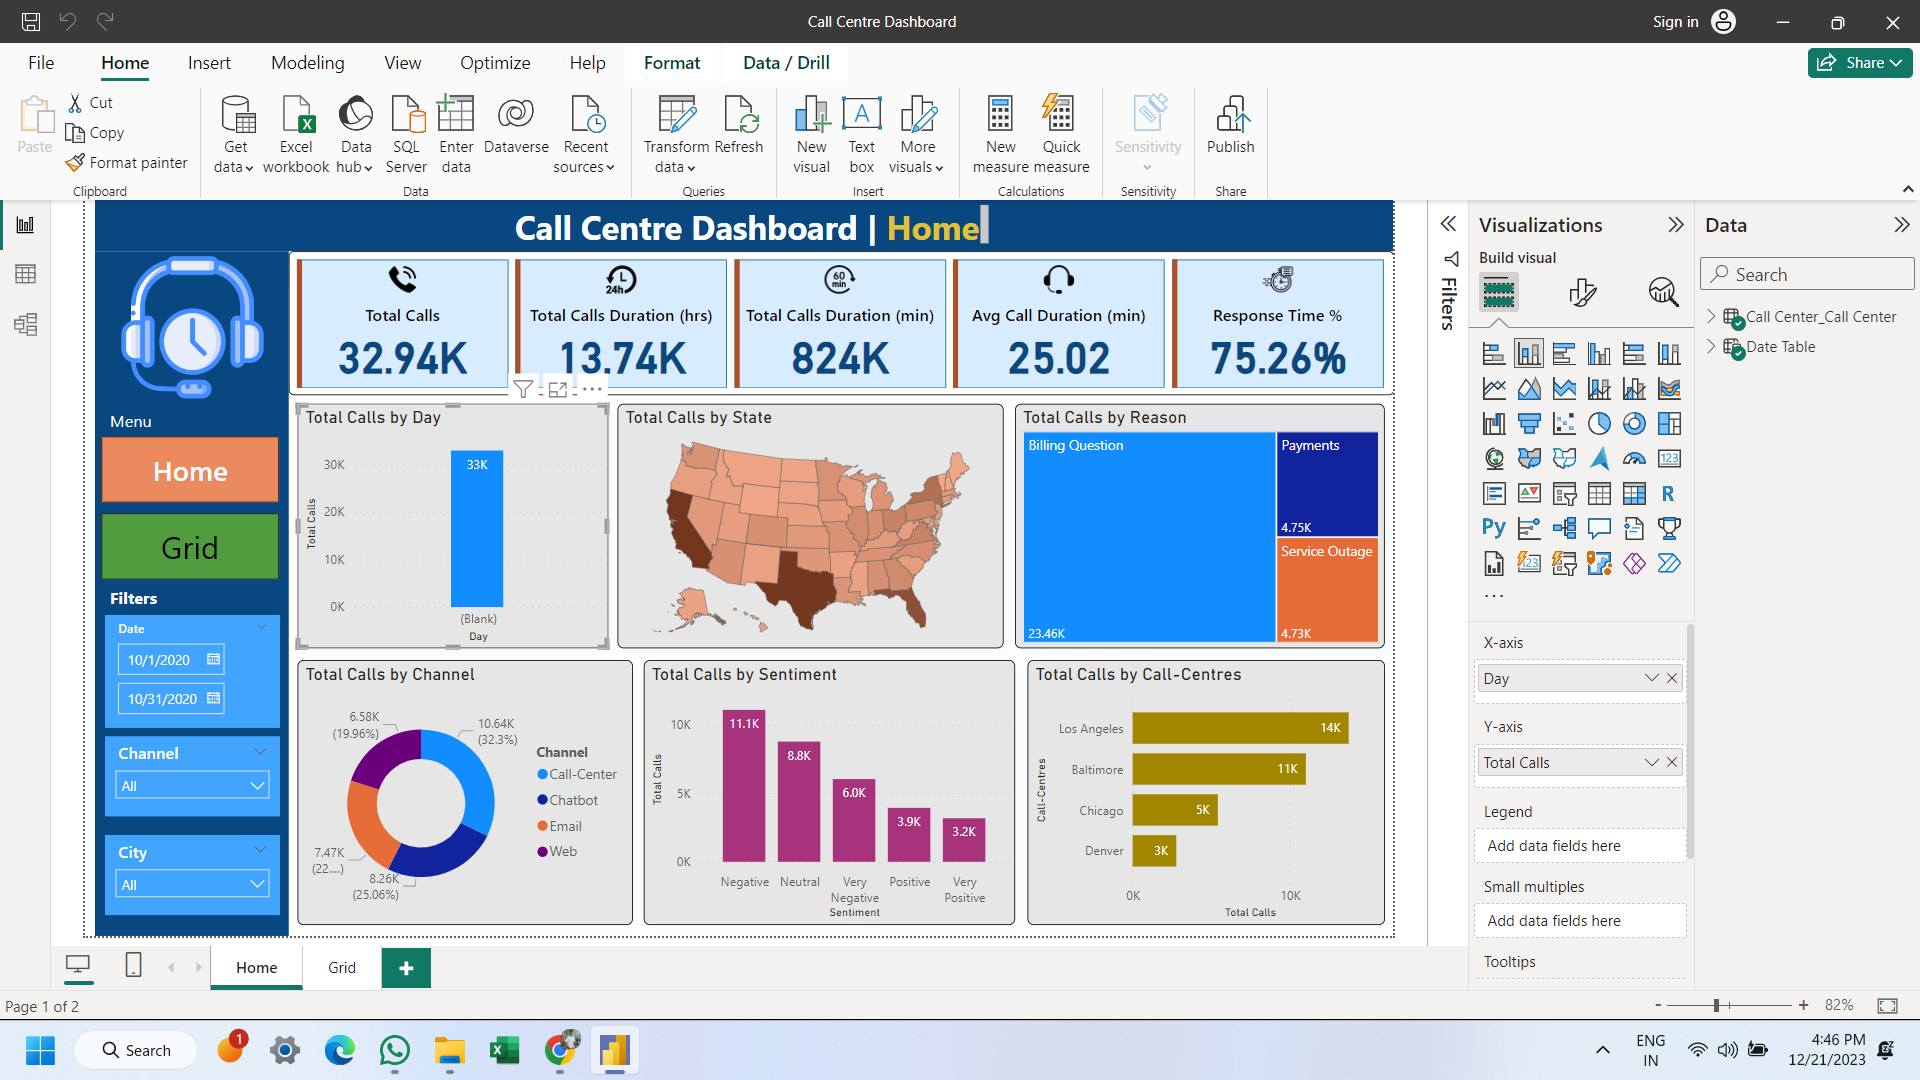

Layout of this report page (visuals, bound fields, positions):
{"tool":"powerbi","page":{"name":"Home","canvas":[1280,720],"ordinal":0},"visuals":[{"type":"shape","box":[9.8,50.1,189.5,669.9],"z":0},{"type":"shape","box":[9.3,0,1270.7,50],"z":1000},{"type":"textbox","box":[19.6,372.8,123.5,33],"z":2000},{"type":"cardVisual","fields":{"Data":["Call Center_Call Center.Total Calls","Call Center_Call Center.Total Calls Duration (hrs)","Call Center_Call Center.Total Calls in Duration (min)","Call Center_Call Center.Avg Calls Duration (min)","Call Center_Call Center.Response Time %"]},"box":[199.3,50.1,1080.6,140.6],"z":3000},{"type":"textbox","box":[415.6,0,473.1,50.1],"z":4000},{"type":"columnChart","fields":{"Y":["Call Center_Call Center.Total Calls"],"Category":["Date Table.Day"]},"box":[207.8,199.3,304.4,239.6],"z":5000},{"type":"shapeMap","fields":{"Category":["Call Center_Call Center.State"],"Value":["Call Center_Call Center.Total Calls"]},"box":[520.7,199.3,377.7,239.6],"z":6000},{"type":"treemap","fields":{"Values":["Call Center_Call Center.Total Calls"],"Group":["Call Center_Call Center.Reason"]},"box":[909.5,199.3,361.8,239.6],"z":7000},{"type":"donutChart","fields":{"Category":["Call Center_Call Center.Channel"],"Y":["Call Center_Call Center.Total Calls"]},"box":[207.8,449.8,327.6,259.2],"z":8000},{"type":"columnChart","fields":{"Category":["Call Center_Call Center.Sentiment"],"Y":["Call Center_Call Center.Total Calls"]},"box":[546.4,449.8,363.1,259.2],"z":9000},{"type":"barChart","fields":{"Category":["Call Center_Call Center.Call-Centres City"],"Y":["Call Center_Call Center.Total Calls"]},"box":[921.7,449.8,349.6,259.2],"z":10000},{"type":"slicer","fields":{"Values":["Date Table.Date"]},"box":[19.6,405.8,171.1,110],"z":11000},{"type":"slicer","fields":{"Values":["Call Center_Call Center.Channel"]},"box":[19.6,524.4,171.1,78.2],"z":12000},{"type":"slicer","fields":{"Values":["Call Center_Call Center.City"]},"box":[19.6,621,171.1,78.2],"z":13000},{"type":"image","box":[19.6,50.1,171.1,149.1],"z":14000},{"type":"pageNavigator","box":[15.9,231,174.8,141.8],"z":15000},{"type":"textbox","box":[19.6,199.3,123.5,111.2],"z":16000}]}

Visuals, with their boxes on the page's 1280x720 design canvas (x1, y1, x2, y2). These are canvas units, not pixel positions in the 1920x1080 screenshot, which may show the page scaled, cropped or inside an application window:
shape: 10, 50, 199, 720
shape: 9, 0, 1280, 50
textbox: 20, 373, 143, 406
cardVisual - Call Center_Call Center.Total Calls x Call Center_Call Center.Total Calls Duration (hrs): 199, 50, 1280, 191
textbox: 416, 0, 889, 50
columnChart - Call Center_Call Center.Total Calls x Date Table.Day: 208, 199, 512, 439
shapeMap - Call Center_Call Center.State x Call Center_Call Center.Total Calls: 521, 199, 898, 439
treemap - Call Center_Call Center.Total Calls x Call Center_Call Center.Reason: 910, 199, 1271, 439
donutChart - Call Center_Call Center.Channel x Call Center_Call Center.Total Calls: 208, 450, 535, 709
columnChart - Call Center_Call Center.Sentiment x Call Center_Call Center.Total Calls: 546, 450, 910, 709
barChart - Call Center_Call Center.Call-Centres City x Call Center_Call Center.Total Calls: 922, 450, 1271, 709
slicer - Date Table.Date: 20, 406, 191, 516
slicer - Call Center_Call Center.Channel: 20, 524, 191, 603
slicer - Call Center_Call Center.City: 20, 621, 191, 699
image: 20, 50, 191, 199
pageNavigator: 16, 231, 191, 373
textbox: 20, 199, 143, 310
